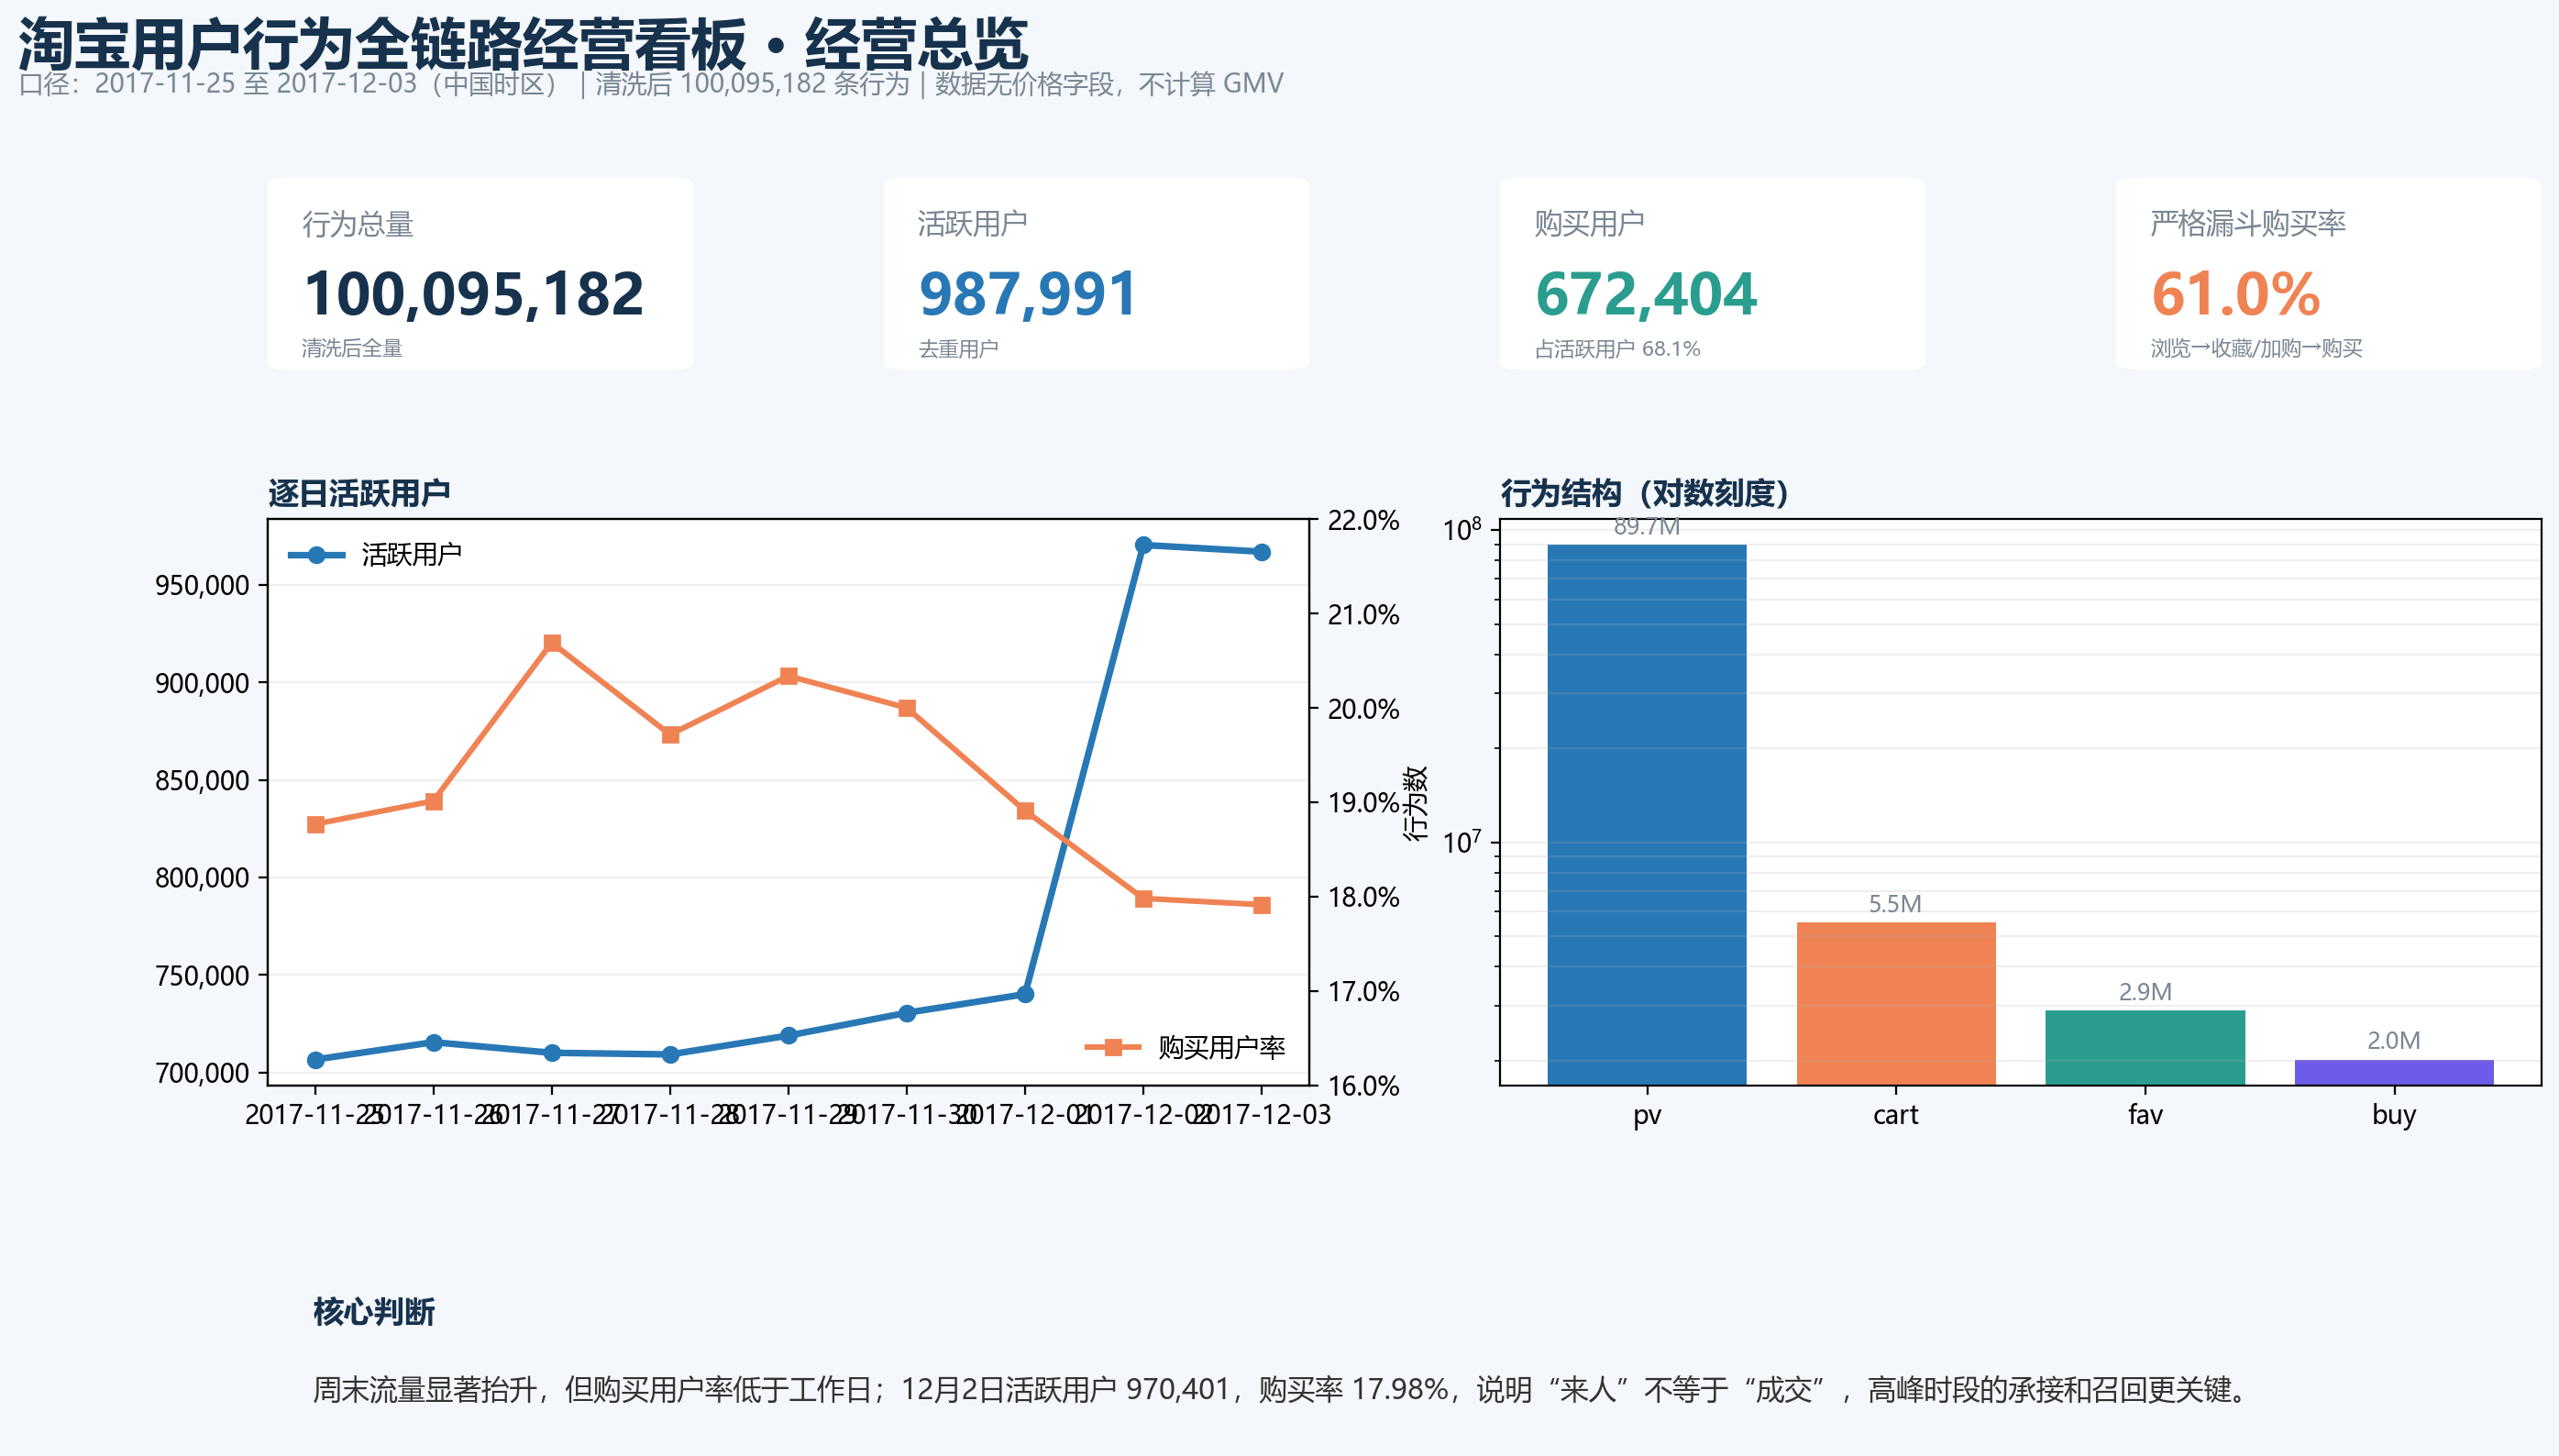

The dashboard page shown, as its layout file describes it:
{"tool":"powerbi","page":{"name":"经营总览","canvas":[1280,720],"ordinal":0},"visuals":[{"type":"textbox","box":[30,15,900,45],"z":1},{"type":"textbox","box":[40,55,280,32],"z":1},{"type":"textbox","box":[340,55,280,32],"z":1},{"type":"textbox","box":[640,55,280,32],"z":1},{"type":"textbox","box":[940,55,280,32],"z":1},{"type":"textbox","box":[30,92,1200,24],"z":1},{"type":"columnChart","title":"逐日活跃用户","fields":{"Category":["DailyMetrics.event_date"],"Y":["Sum(DailyMetrics.active_users)"]},"box":[50,250,560,360],"z":3},{"type":"columnChart","title":"逐日购买行为","fields":{"Category":["DailyMetrics.event_date"],"Y":["Sum(DailyMetrics.buy_actions)"]},"box":[650,250,560,360],"z":3},{"type":"card","fields":{"Values":["OverallKPI.行为总量"]},"box":[40,120,280,90],"z":5},{"type":"card","fields":{"Values":["OverallKPI.活跃用户"]},"box":[340,120,280,90],"z":5},{"type":"card","fields":{"Values":["OverallKPI.购买用户"]},"box":[640,120,280,90],"z":5},{"type":"card","fields":{"Values":["OverallKPI.购买用户率"]},"box":[940,120,280,90],"z":5}]}

Visuals, with their boxes in screenshot pixels (x1, y1, x2, y2), scaled from the page's 1280x720 canvas onto the 2559x1456 screenshot:
textbox: pyautogui.locateOnScreen(60, 30, 1859, 121)
textbox: pyautogui.locateOnScreen(80, 111, 640, 176)
textbox: pyautogui.locateOnScreen(679, 111, 1240, 176)
textbox: pyautogui.locateOnScreen(1280, 111, 1839, 176)
textbox: pyautogui.locateOnScreen(1880, 111, 2439, 176)
textbox: pyautogui.locateOnScreen(60, 186, 2459, 235)
"逐日活跃用户" columnChart: pyautogui.locateOnScreen(100, 505, 1219, 1233)
"逐日购买行为" columnChart: pyautogui.locateOnScreen(1299, 505, 2419, 1233)
card - OverallKPI.行为总量: pyautogui.locateOnScreen(80, 243, 640, 425)
card - OverallKPI.活跃用户: pyautogui.locateOnScreen(679, 243, 1240, 425)
card - OverallKPI.购买用户: pyautogui.locateOnScreen(1280, 243, 1839, 425)
card - OverallKPI.购买用户率: pyautogui.locateOnScreen(1880, 243, 2439, 425)
